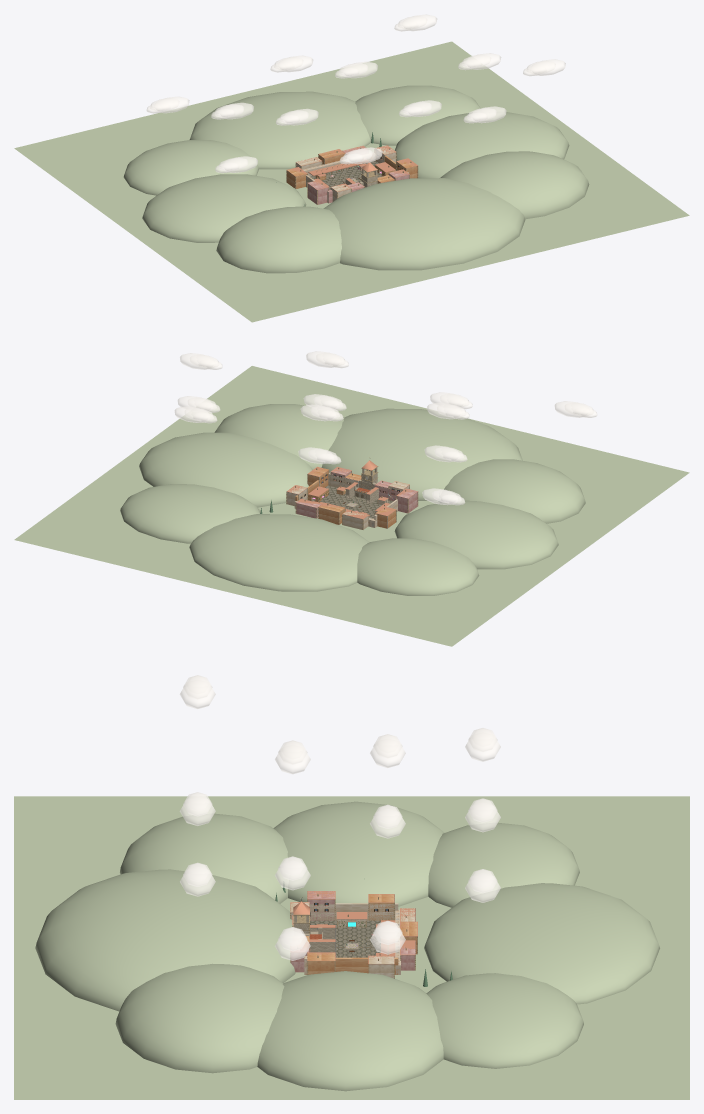
The model's file is belltower.glb.
3 views of the same model, one above another, from view 1: azimuth 30°, elevation 25°; view 2: azimuth 150°, elevation 25°; view 3: azimuth 270°, elevation 25° (orthographic). The views are drawn at different scales.
Bounding box in the file's own units: 340 × 77.52 × 320.
66 materials, 19 textured.
